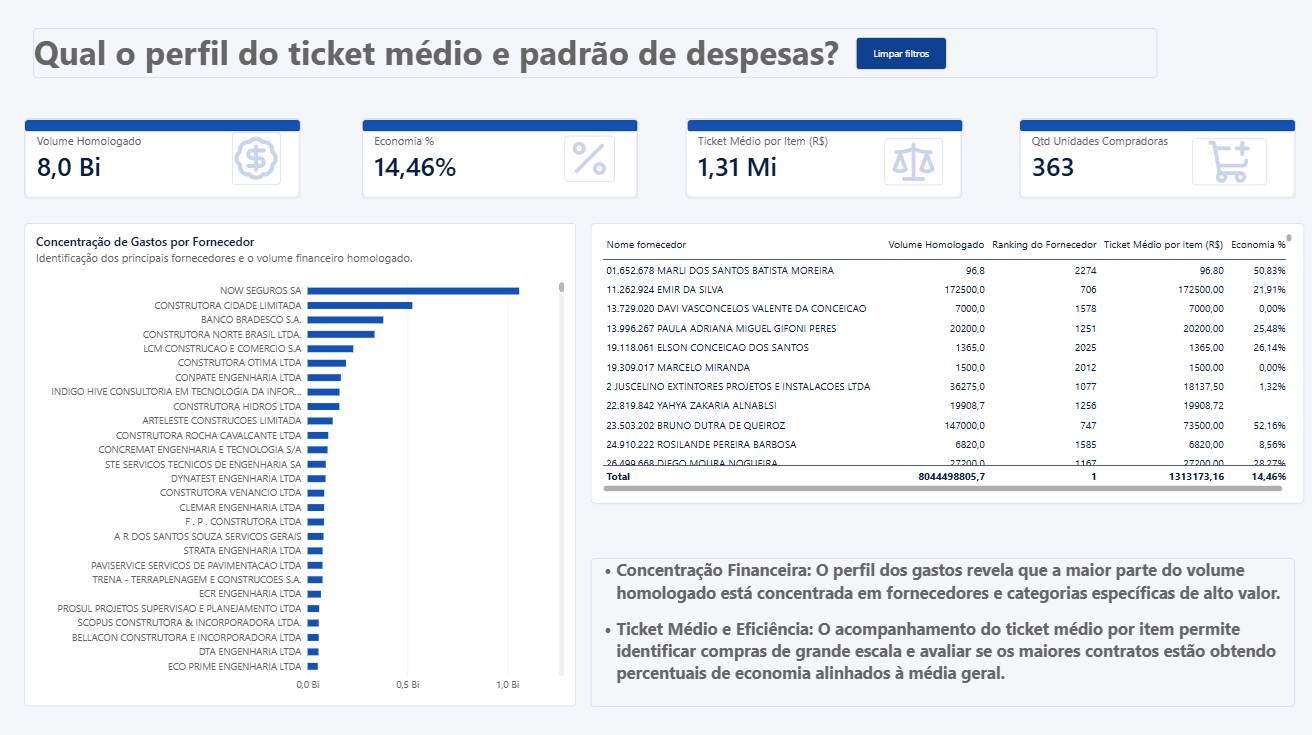

The page's visual inventory and layout, read from the dashboard file:
{"tool":"powerbi","page":{"name":" Perfil dos gastos","canvas":[1920,1080],"ordinal":5},"visuals":[{"type":"cardVisual","fields":{"Data":["Medida.Volume Homologado"]},"box":[53.8,182.1,399.4,115.9],"z":0},{"type":"cardVisual","fields":{"Data":["Medida.Ticket Médio por Item (R$)"]},"box":[1011.9,182.1,399.4,115.9],"z":1000},{"type":"cardVisual","fields":{"Data":["Medida.Economia %"]},"box":[542.2,182.1,399.4,115.9],"z":2000},{"type":"cardVisual","fields":{"Data":["Medida.Qtd Unidades Compradoras"]},"box":[1494.1,182.1,399.4,115.9],"z":3000},{"type":"barChart","title":"Concentração de Gastos por Fornecedor","fields":{"Category":["dim_fornecedor.nome_fornecedor"],"Y":["Medida.Volume Homologado"]},"box":[53.8,335.2,798.8,699.5],"z":4000},{"type":"tableEx","fields":{"Values":["dim_fornecedor.nome_fornecedor","Medida.Volume Homologado","Medida.Ranking do Fornecedor","Medida.Ticket Médio por Item (R$)","Medida.Economia %"]},"box":[873.3,335.2,1032.6,405.6],"z":5000},{"type":"textbox","box":[874.1,819.8,1018.8,215.3],"z":6000},{"type":"image","box":[1299.6,211.1,84.8,68.3],"z":7000},{"type":"image","box":[1744.5,211.1,107.6,68.3],"z":8000},{"type":"image","box":[353.9,202.8,70.4,76.6],"z":9000},{"type":"image","box":[836,209,72.4,66.2],"z":10000},{"type":"textbox","box":[67,52.5,1626.9,72.4],"z":11000},{"type":"shape","box":[54.3,184.6,399.9,18.1],"z":12000},{"type":"shape","box":[542.9,184.6,399.9,18.1],"z":13000},{"type":"shape","box":[1013.4,184.6,399.9,18.1],"z":14000},{"type":"shape","box":[1494.8,184.6,399.9,18.1],"z":15000},{"type":"actionButton","box":[1257.7,65.1,132,48],"z":16002}]}

Visuals, with their boxes in screenshot pixels (x1, y1, x2, y2), scaled from the page's 1920x1080 canvas onto the 1312x735 screenshot:
cardVisual - Medida.Volume Homologado: <box>37,124,310,203</box>
cardVisual - Medida.Ticket Médio por Item (R$): <box>691,124,964,203</box>
cardVisual - Medida.Economia %: <box>371,124,643,203</box>
cardVisual - Medida.Qtd Unidades Compradoras: <box>1021,124,1294,203</box>
"Concentração de Gastos por Fornecedor" barChart: <box>37,228,583,704</box>
tableEx - dim_fornecedor.nome_fornecedor x Medida.Volume Homologado: <box>597,228,1302,504</box>
textbox: <box>597,558,1293,704</box>
image: <box>888,144,946,190</box>
image: <box>1192,144,1266,190</box>
image: <box>242,138,290,190</box>
image: <box>571,142,621,187</box>
textbox: <box>46,36,1157,85</box>
shape: <box>37,126,310,138</box>
shape: <box>371,126,644,138</box>
shape: <box>692,126,966,138</box>
shape: <box>1021,126,1295,138</box>
actionButton: <box>859,44,950,77</box>
